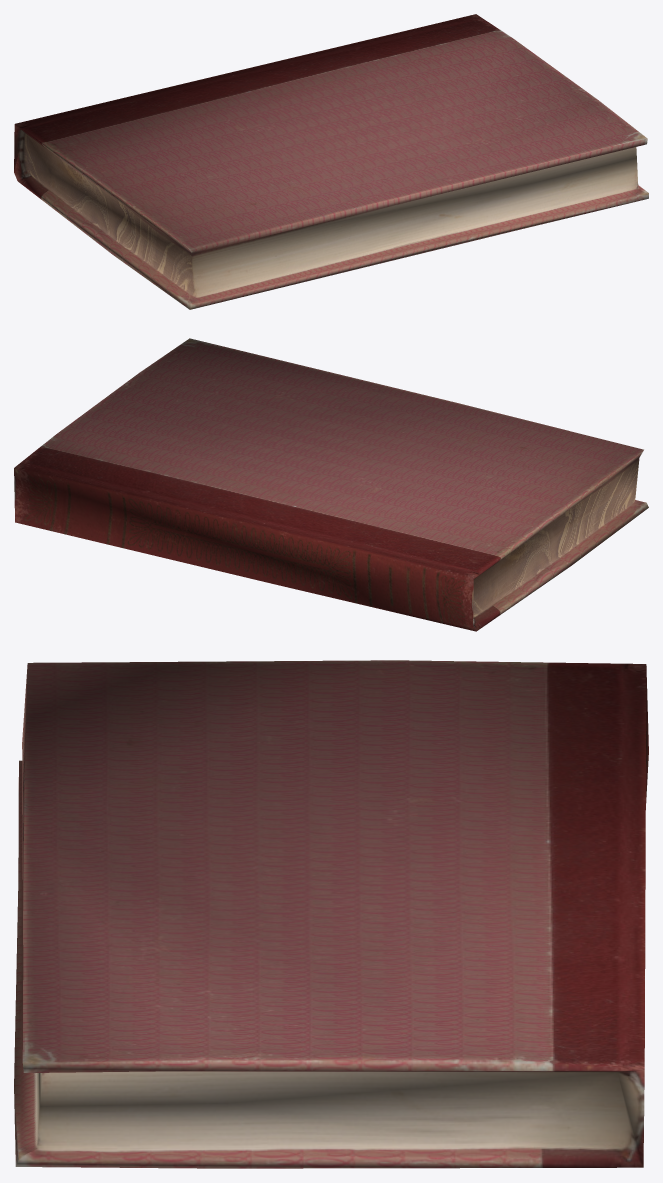
File: Pink_Book_vdkvcaz_Low.gltf
The picture shows the model from 3 angles, top to bottom: view 1: azimuth 30°, elevation 25°; view 2: azimuth 150°, elevation 25°; view 3: azimuth 270°, elevation 25°; orthographic projection. The views are drawn at different scales.
Parts seen in each view (by area): view 1: vdkvcaz_LOD0_TIER3_000; view 2: vdkvcaz_LOD0_TIER3_000; view 3: vdkvcaz_LOD0_TIER3_000.
Part boxes in pixels (x1,y1,x2,y2): vdkvcaz_LOD0_TIER3_000: (14,14,648,309); vdkvcaz_LOD0_TIER3_000: (14,338,648,631); vdkvcaz_LOD0_TIER3_000: (14,660,648,1168).
Bounding box in the file's own units: 0.1849 × 0.0237 × 0.1232.
